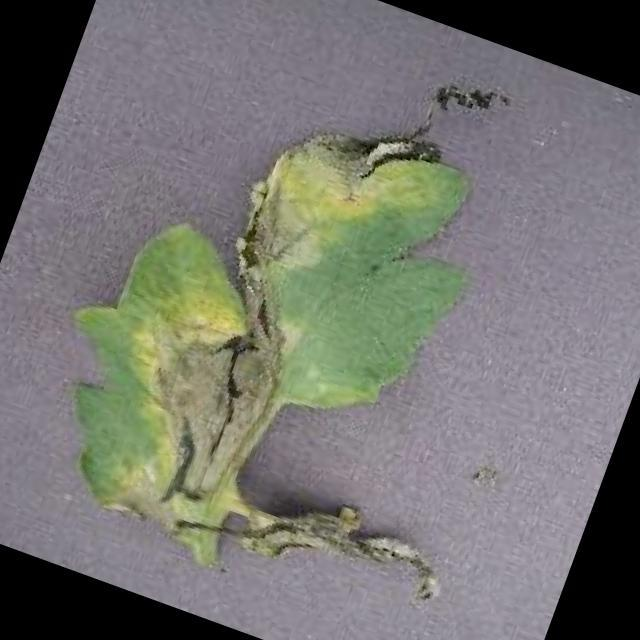Tomato late blight leaf: (5, 0, 611, 640)
